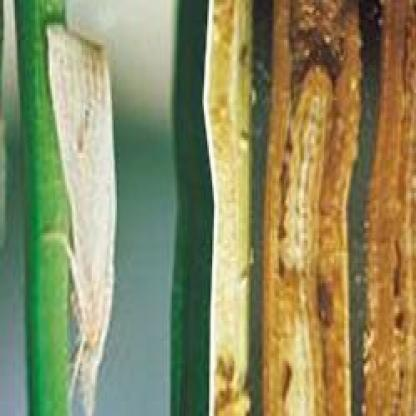stem-borer: (36, 18, 120, 416)
